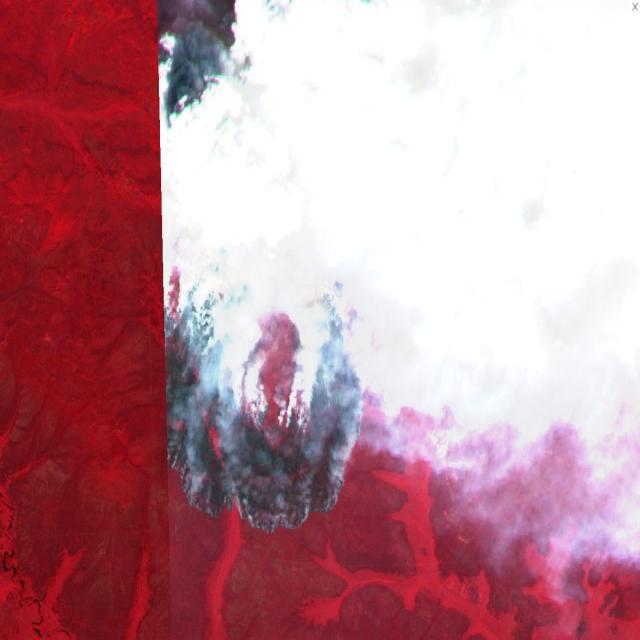fire: (162, 235, 373, 543)
